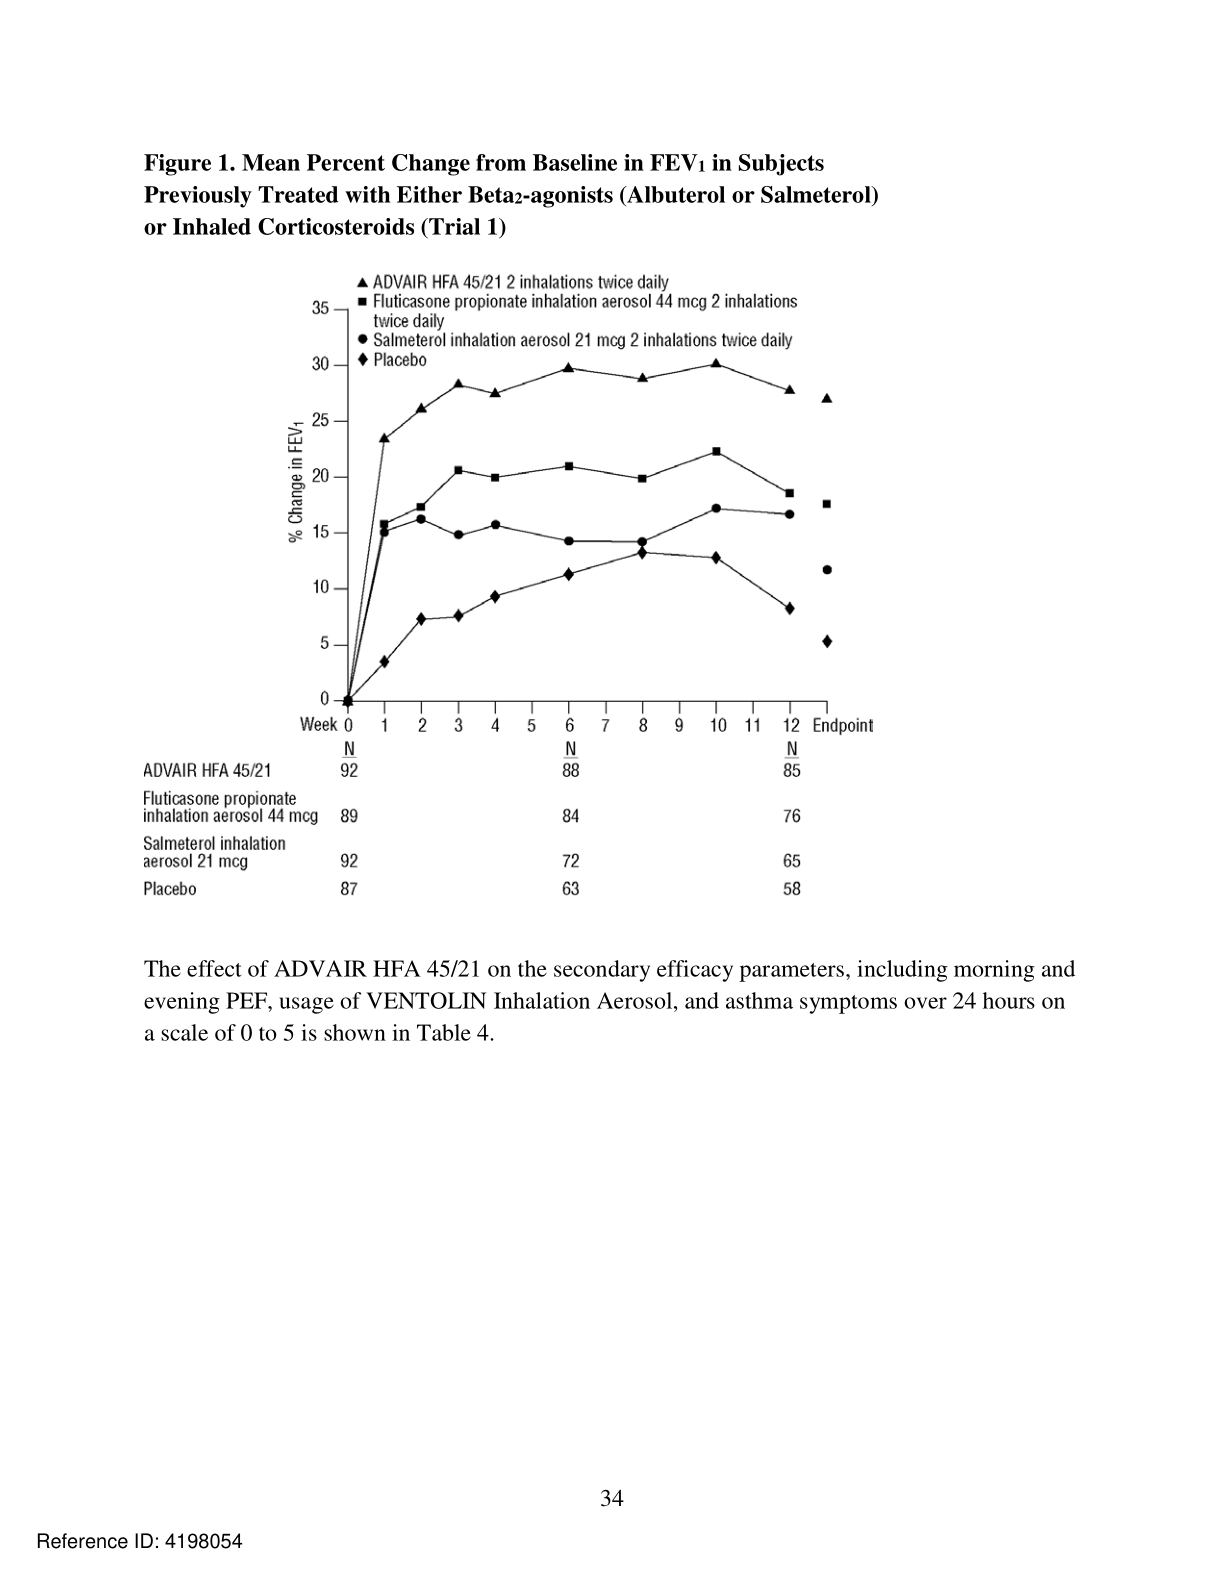nolines: (136, 737, 810, 900)
